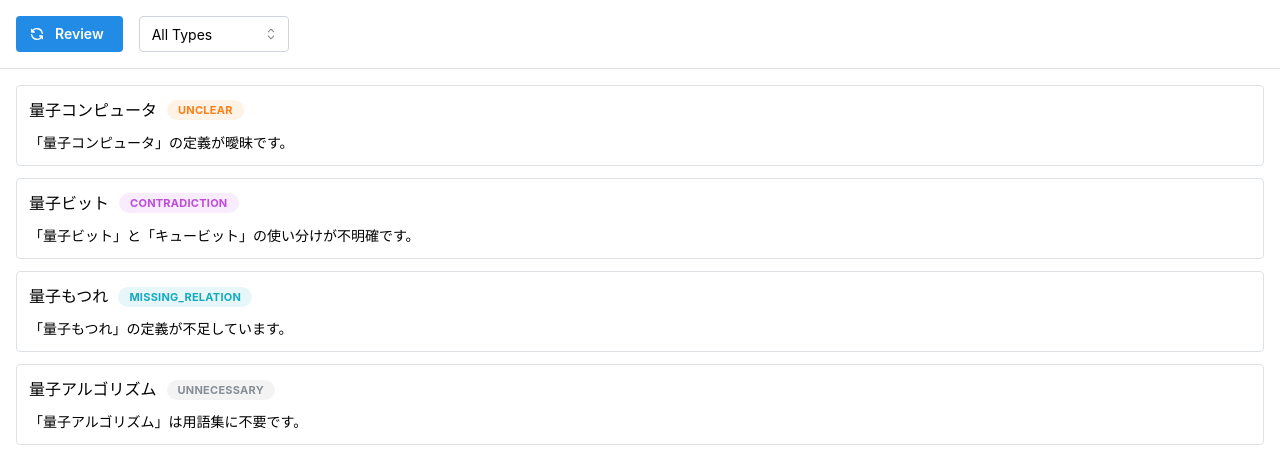
it: IssuesPage › shows detail panel when issue is selected
Click the text "「量子コンピュータ」の定義が曖昧です。" at [161, 142], box [29,134,294,151]
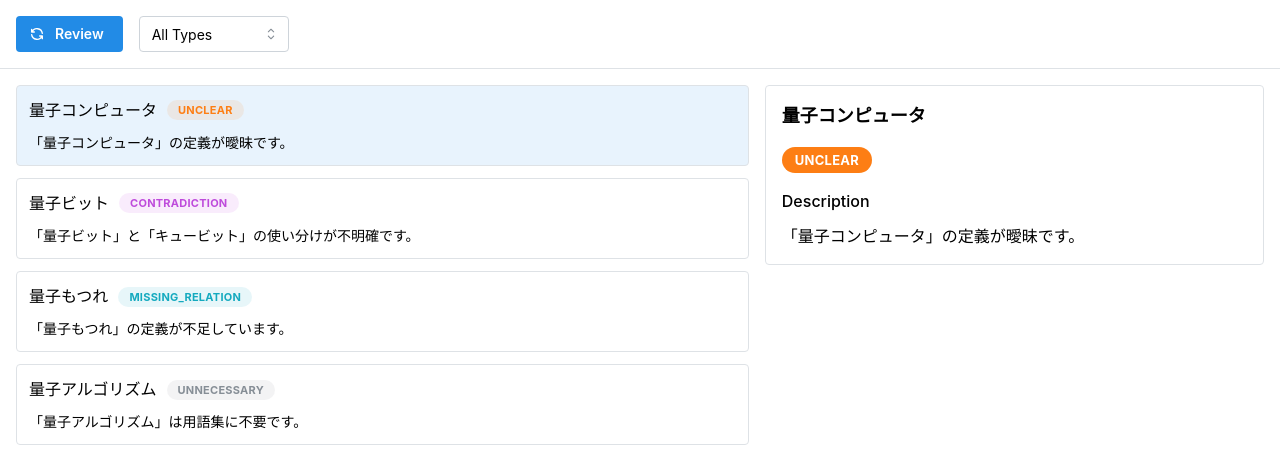
Result: the element with test id "issue-detail-panel" is shown at [765,85,1264,265]
